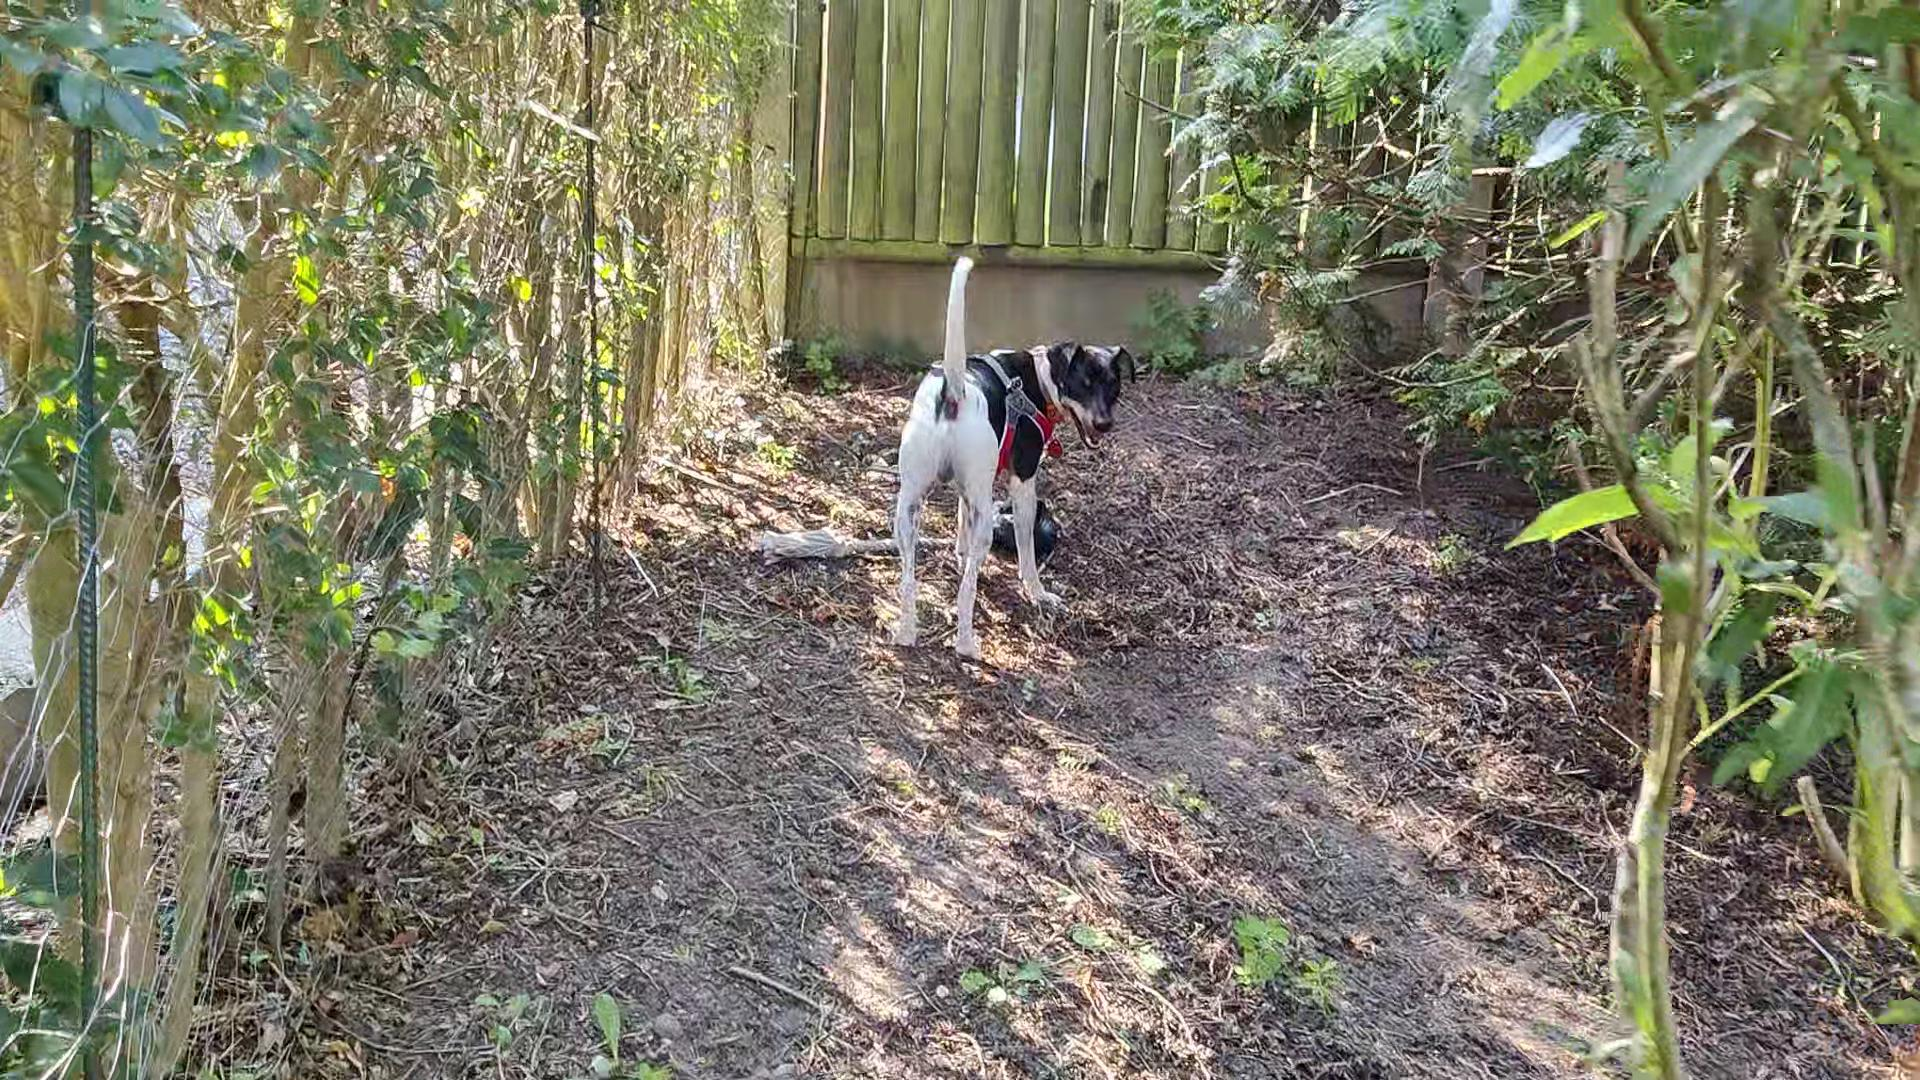Dog: (878, 249, 1145, 670)
